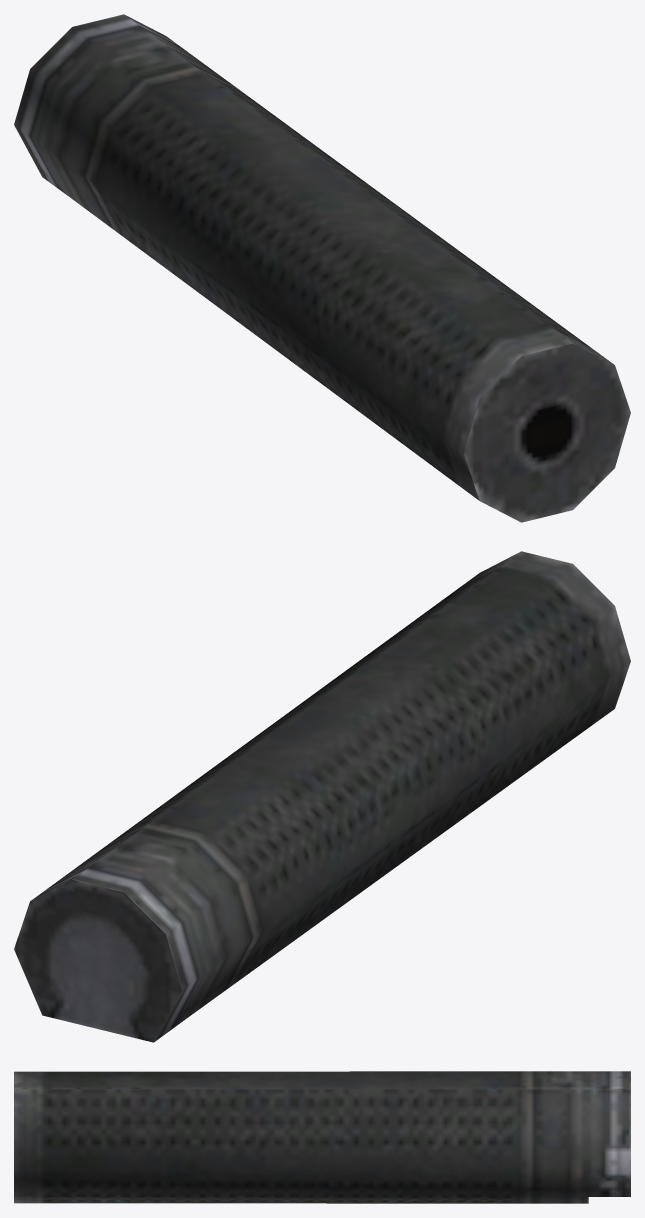
File: Pickup_WeaponXsq01.glb
3 renders of one model, top to bottom at view 1: azimuth 30°, elevation 25°; view 2: azimuth 150°, elevation 25°; view 3: azimuth 270°, elevation 25°, orthographic. The views are drawn at different scales.
Visible parts, largest first — view 1: pk_weapon_xsq01; view 2: pk_weapon_xsq01; view 3: pk_weapon_xsq01.
Boxes of the visible parts, x1=… form: pk_weapon_xsq01: x1=14, y1=14, x2=630, y2=522; pk_weapon_xsq01: x1=14, y1=551, x2=630, y2=1042; pk_weapon_xsq01: x1=14, y1=1071, x2=630, y2=1203.
Size of the model in its own units: 0.1006 by 0.0957 by 0.4658.
Materials: 1 (1 with a texture image).
